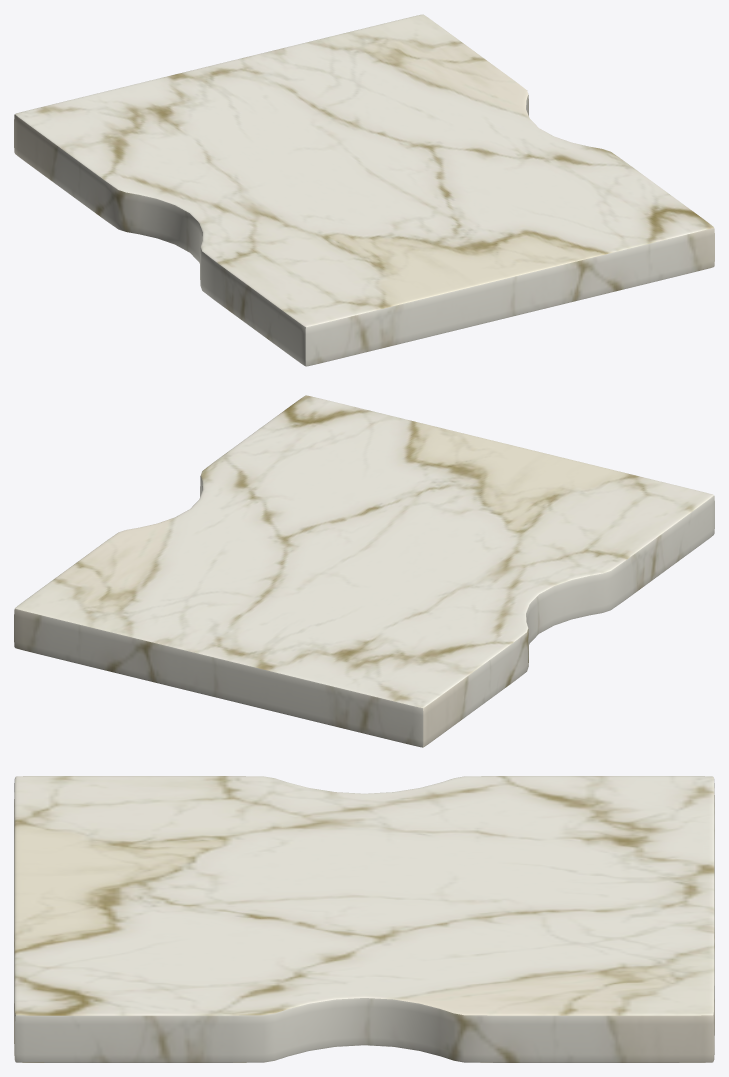
The model's file is sink-cover-three.glb.
3 views of the same model, one above another, from view 1: azimuth 30°, elevation 25°; view 2: azimuth 150°, elevation 25°; view 3: azimuth 270°, elevation 25° (orthographic). The views are drawn at different scales.
Visible parts, largest first — view 1: Cube.013; view 2: Cube.013; view 3: Cube.013.
Part boxes in pixels (left/top/right/bottom): Cube.013: left=14, top=14, right=714, bottom=366; Cube.013: left=14, top=395, right=714, bottom=747; Cube.013: left=14, top=776, right=714, bottom=1062.
Bounding box in the file's own units: 0.2743 × 0.026 × 0.3385.
Materials: 1 (1 with a texture image).
